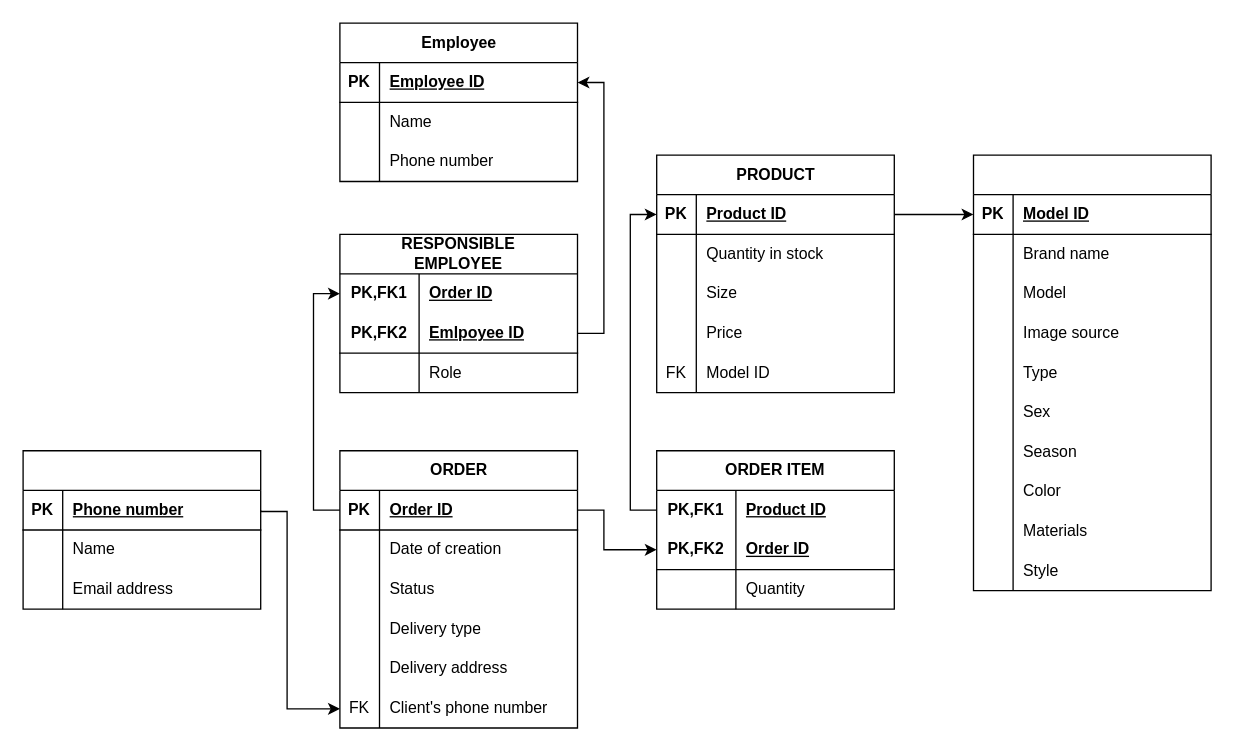
This 1234x751 diagram has some shape labels left out. Here are the shapes that lost their labels. From the top down, the box of each, then its label:
(972, 154, 1211, 591): SHOE MODEL
(22, 449, 261, 609): CLIENT
